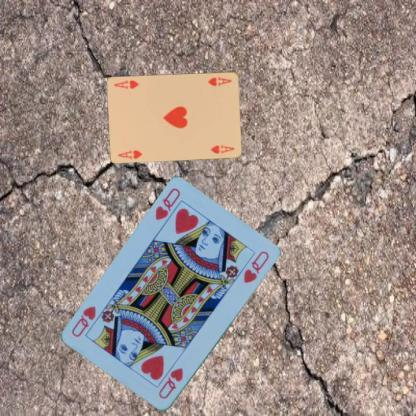Ah: (206, 74, 233, 87), (116, 147, 143, 160)
Qh: (155, 365, 185, 401), (153, 186, 182, 223)
